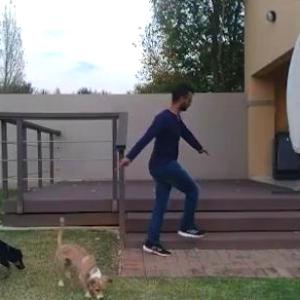land: (89, 77, 216, 260)
